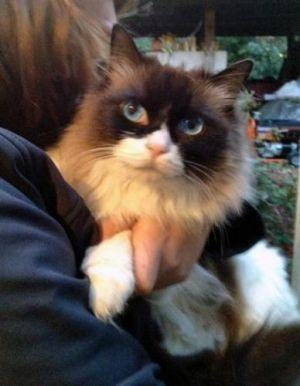ragdoll: (82, 13, 258, 198)
